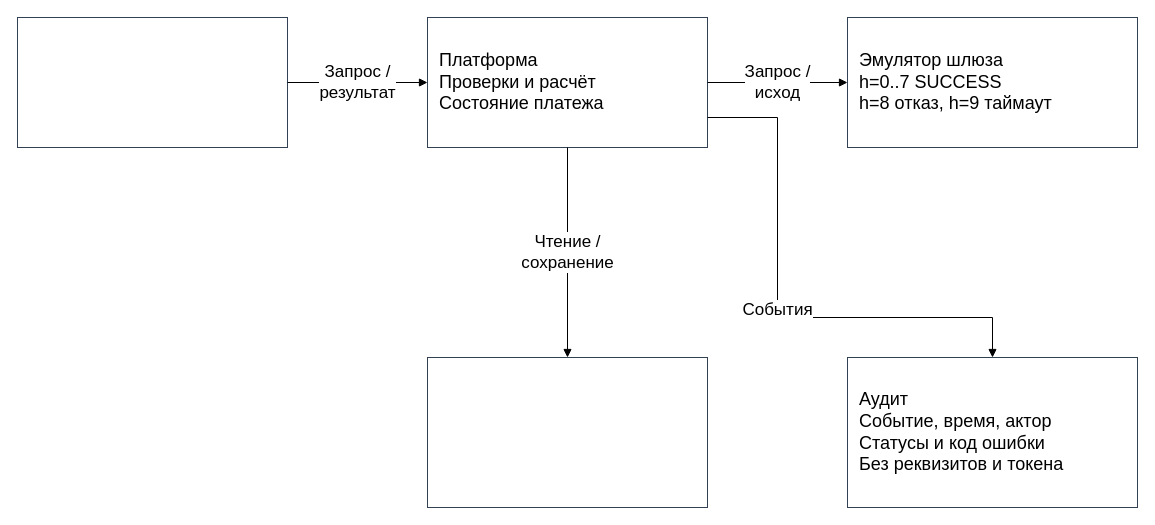
The diagram is 1155 pixels wide and 525 high, and some of its shapes have lost their labels. Here are the shapes that lost their labels. From the top down, the box of each, then its label:
(16, 16, 288, 148): Клиент QR и выбор чаевых Подтверждение / отмена
(426, 356, 708, 508): Хранилище CSV: входные данные SQLite: платежи и ключи CSV/JSONL: выгрузки
